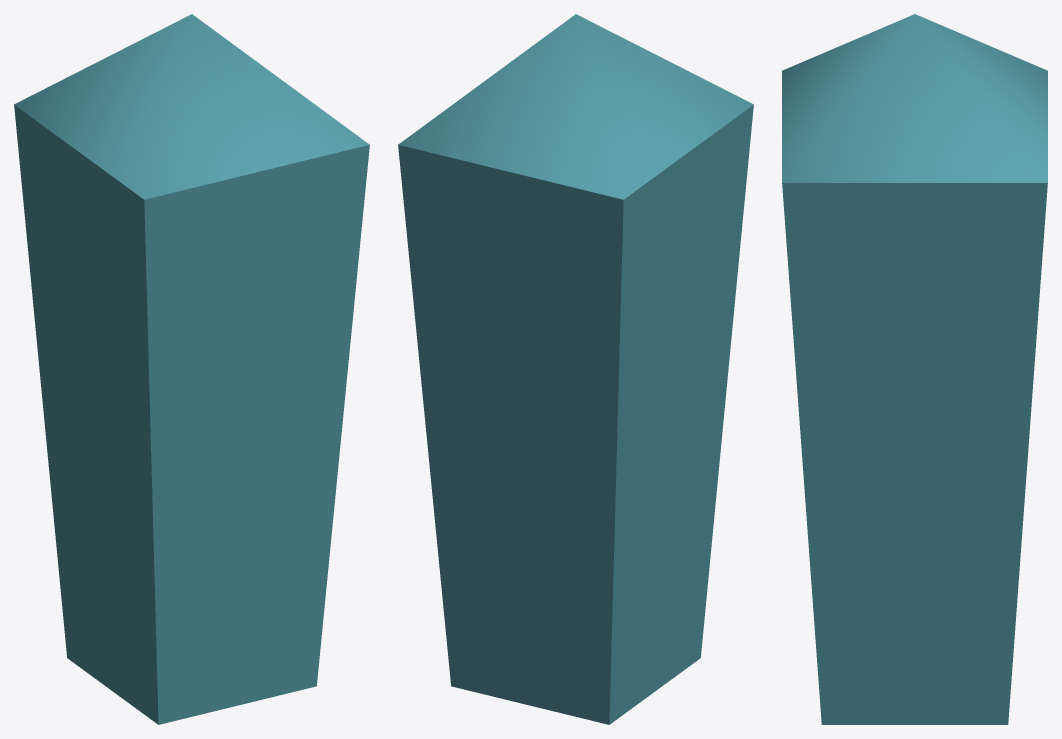
The model's file is cave_crystal.fbx.
The picture shows the model from 3 angles, left to right: view 1: azimuth 30°, elevation 25°; view 2: azimuth 150°, elevation 25°; view 3: azimuth 270°, elevation 25°; orthographic projection. The views are drawn at different scales.
Parts seen in each view (by area): view 1: crystal; view 2: crystal; view 3: crystal.
Part boxes in pixels (x1,y1,x2,y2): crystal: (14,14,369,724); crystal: (398,14,753,724); crystal: (782,14,1047,724).
Size of the model in its own units: 100 by 279 by 100.
